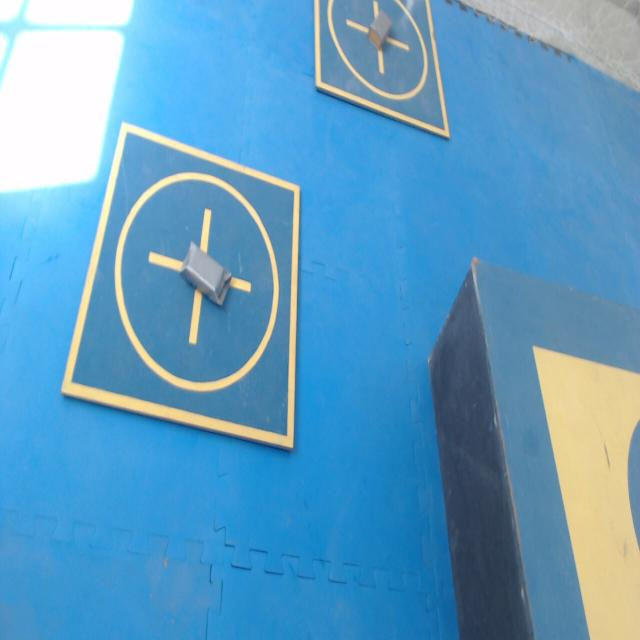direita: (368, 3, 392, 52)
esquerda: (180, 242, 231, 306)
